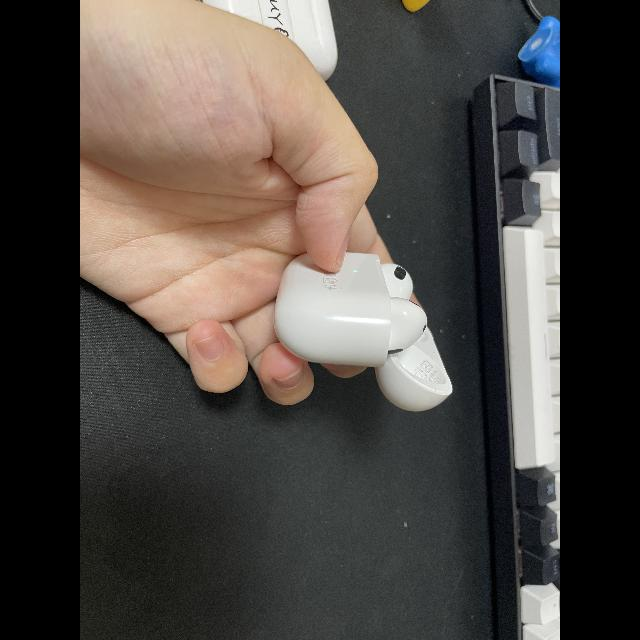airpod3: (276, 232, 464, 426)
